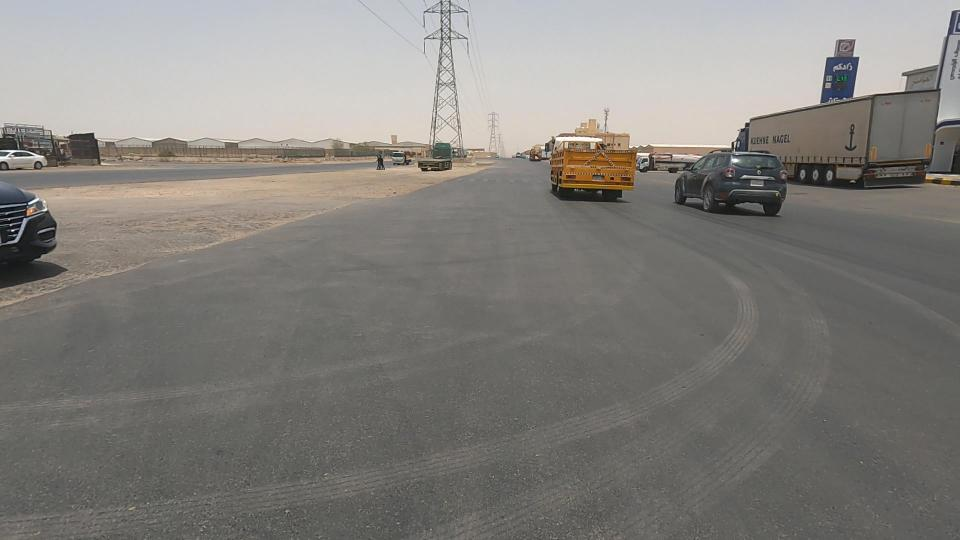CONSTRUCTION_ROAD: (28, 149, 373, 270), (305, 135, 451, 228)
